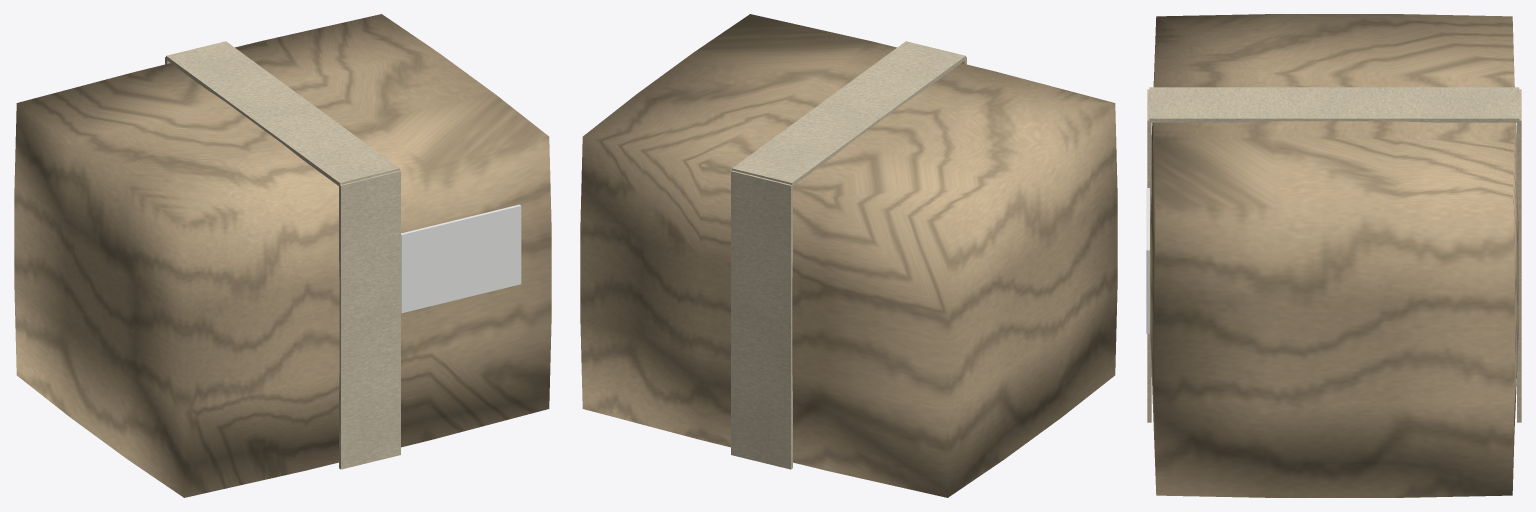
File: package.glb
The picture shows the model from 3 angles, left to right: view 1: azimuth 30°, elevation 25°; view 2: azimuth 150°, elevation 25°; view 3: azimuth 270°, elevation 25°; orthographic projection. The views are drawn at different scales.
Parts seen in each view (by area): view 1: package_body; view 2: package_body; view 3: package_body.
Boxes of the visible parts, bbox=[...] form: package_body: bbox=[14, 14, 551, 497]; package_body: bbox=[580, 14, 1117, 497]; package_body: bbox=[1146, 14, 1521, 497].
Size of the model in its own units: 0.5 by 0.3645 by 0.408.
3 materials, 2 textured.
